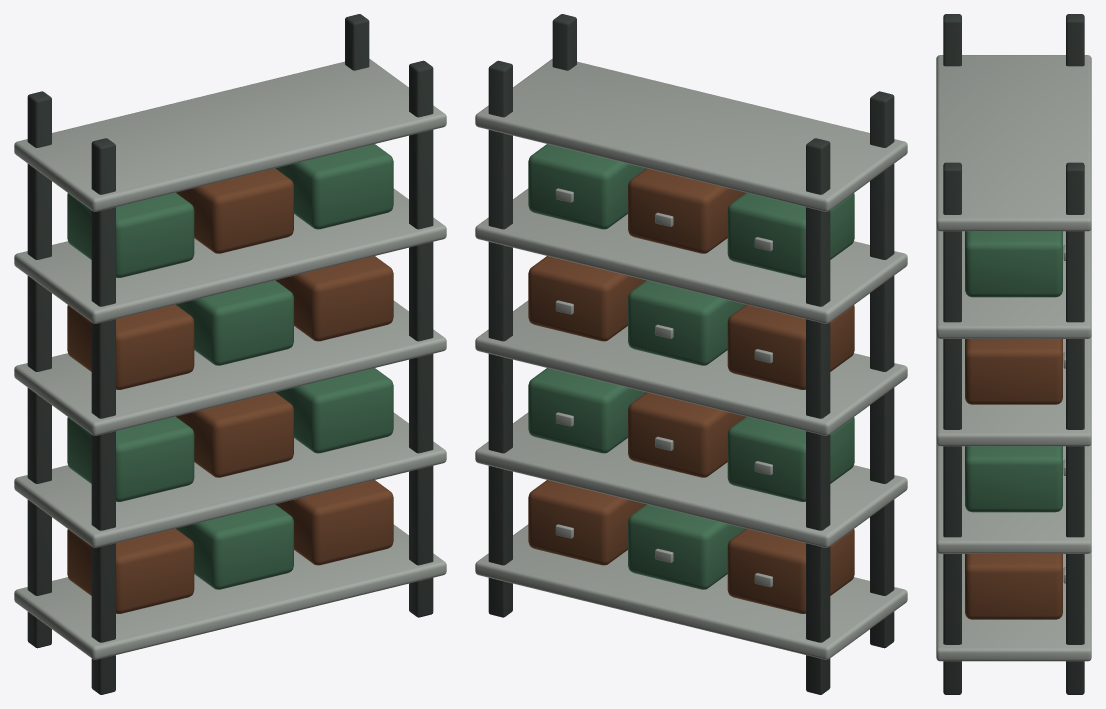
File: storage_rack.glb
3 renders of one model, left to right at view 1: azimuth 30°, elevation 25°; view 2: azimuth 150°, elevation 25°; view 3: azimuth 270°, elevation 25°, orthographic. The views are drawn at different scales.
Visible parts, largest first — view 1: Shelf_2.56, Shelf_1.98, Shelf_0.82, Shelf_1.4, Shelf_0.24, RackPost.001, RackPost.003, RackPost, SupplyCrate_0_2, SupplyCrate_1_2, SupplyCrate_2_2, SupplyCrate_3_2 (+9 smaller); view 2: Shelf_2.56, Shelf_1.98, Shelf_0.82, Shelf_1.4, Shelf_0.24, RackPost, RackPost.002, RackPost.001, SupplyCrate_0_2, SupplyCrate_1_2, SupplyCrate_2_2, SupplyCrate_3_2 (+9 smaller); view 3: Shelf_2.56, RackPost.002, RackPost.003, Shelf_0.24, Shelf_1.4, Shelf_0.82, Shelf_1.98, SupplyCrate_3_2, SupplyCrate_1_2, SupplyCrate_0_2, SupplyCrate_2_2, RackPost (+1 smaller).
Boxes of the visible parts, x1,y1,x2,y2 form: Shelf_2.56: (14, 59, 446, 211); Shelf_1.98: (14, 188, 446, 323); Shelf_0.82: (14, 412, 446, 547); Shelf_1.4: (14, 300, 446, 435); Shelf_0.24: (14, 524, 446, 659); RackPost.001: (91, 138, 115, 694); RackPost.003: (409, 60, 433, 617); RackPost: (27, 91, 51, 648); SupplyCrate_0_2: (275, 480, 393, 565); SupplyCrate_1_2: (275, 368, 393, 453); SupplyCrate_2_2: (276, 256, 393, 341); SupplyCrate_3_2: (276, 144, 393, 229); Shelf_2.56: (475, 59, 907, 211); Shelf_1.98: (475, 188, 907, 323); Shelf_0.82: (475, 412, 907, 547); Shelf_1.4: (475, 300, 907, 435); Shelf_0.24: (475, 524, 907, 659); RackPost: (806, 138, 830, 694); RackPost.002: (488, 60, 512, 617); RackPost.001: (870, 91, 894, 648); SupplyCrate_0_2: (528, 480, 646, 565); SupplyCrate_1_2: (528, 368, 646, 453); SupplyCrate_2_2: (528, 256, 645, 341); SupplyCrate_3_2: (528, 144, 645, 229); Shelf_2.56: (936, 55, 1091, 231); RackPost.002: (1066, 162, 1084, 694); RackPost.003: (943, 162, 961, 694); Shelf_0.24: (936, 551, 1091, 661); Shelf_1.4: (936, 336, 1091, 446); Shelf_0.82: (936, 443, 1091, 553); Shelf_1.98: (936, 228, 1091, 338); SupplyCrate_3_2: (965, 231, 1062, 297); SupplyCrate_1_2: (965, 446, 1062, 512); SupplyCrate_0_2: (965, 554, 1062, 619); SupplyCrate_2_2: (965, 339, 1062, 404); RackPost: (1066, 14, 1084, 66).
Bounding box in the file's own units: 1.92 × 2.84 × 0.76.
